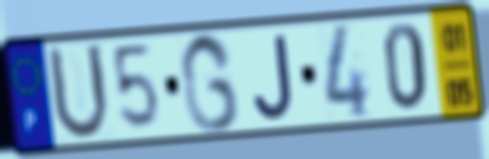0: (380, 20, 429, 115)
4: (321, 22, 375, 122)
5: (107, 40, 163, 135)
G: (178, 29, 243, 136)
J: (250, 31, 297, 124)
U: (44, 41, 113, 145)
